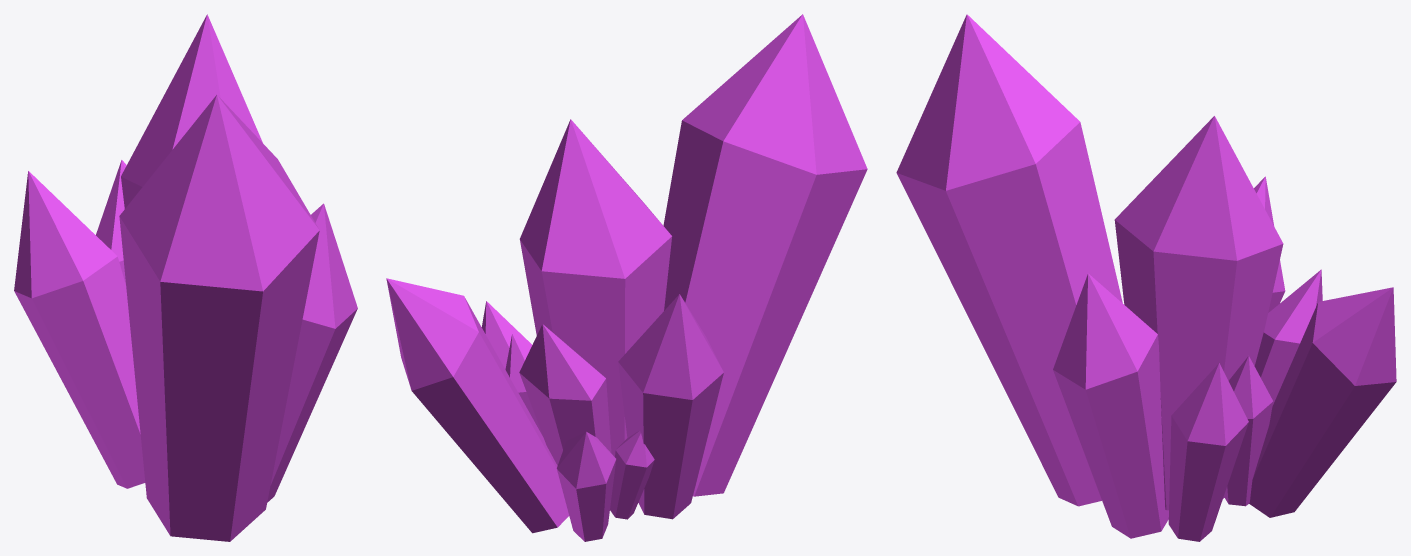
Rendered from crystal.glb.
3 views of the same model, side by side, from view 1: azimuth 30°, elevation 25°; view 2: azimuth 150°, elevation 25°; view 3: azimuth 270°, elevation 25° (orthographic). The views are drawn at different scales.
Parts seen in each view (by area): view 1: Cylinder; view 2: Cylinder; view 3: Cylinder.
Boxes of the visible parts, x1=… form: Cylinder: x1=14, y1=14, x2=357, y2=541; Cylinder: x1=386, y1=14, x2=867, y2=541; Cylinder: x1=896, y1=14, x2=1396, y2=541.
Bounding box in the file's own units: 1.25 × 1.97 × 1.94.
Materials: 1 (1 with a texture image).
